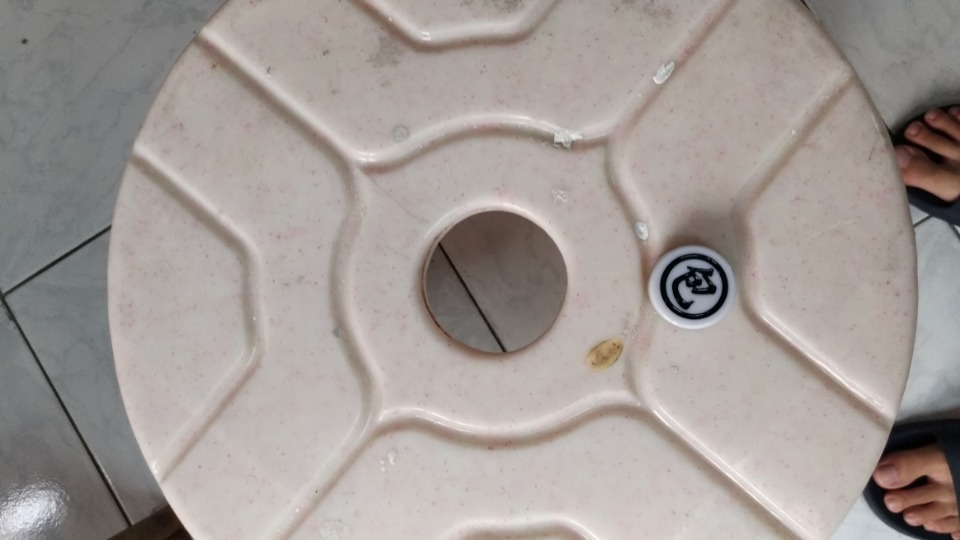b-cannon: (640, 231, 754, 349)
